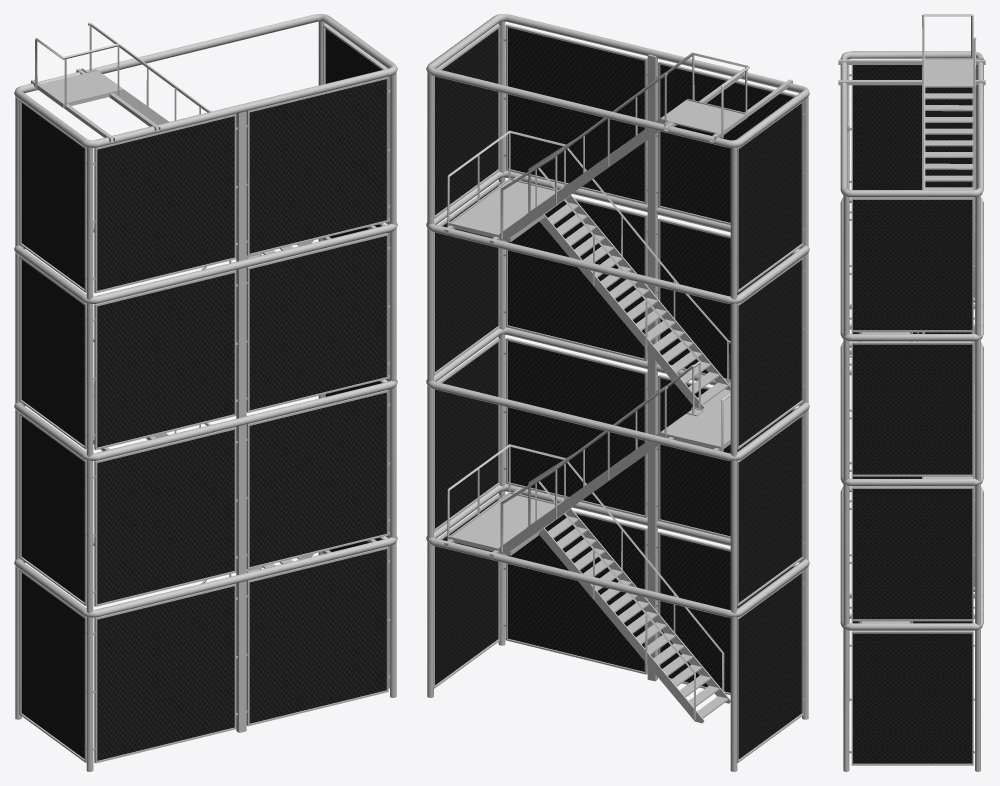
File: ladder_6_big.fbx
The picture shows the model from 3 angles, left to right: view 1: azimuth 30°, elevation 25°; view 2: azimuth 150°, elevation 25°; view 3: azimuth 270°, elevation 25°; orthographic projection. The views are drawn at different scales.
Parts seen in each view (by area): view 1: Mesh Object; view 2: Mesh Object; view 3: Mesh Object.
Boxes of the visible parts, bbox=[...] form: Mesh Object: bbox=[14, 14, 397, 771]; Mesh Object: bbox=[426, 14, 809, 771]; Mesh Object: bbox=[838, 14, 985, 771].
Size of the model in its own units: 10.31 by 21.24 by 4.53.
